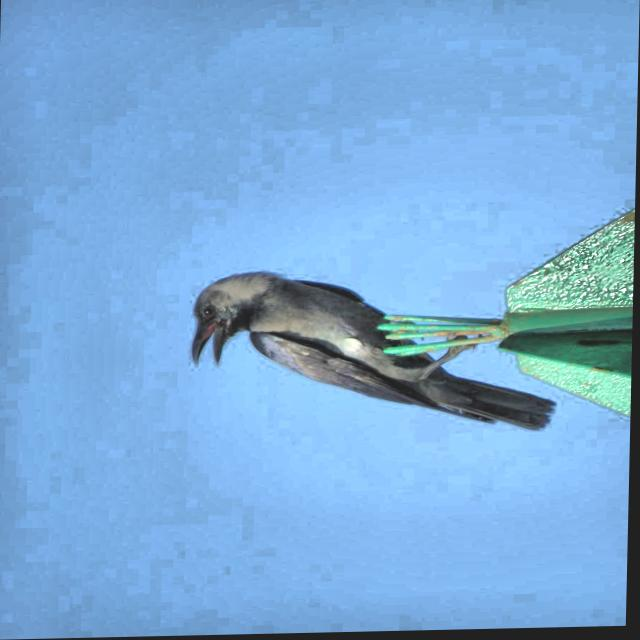crow: (182, 264, 569, 452)
